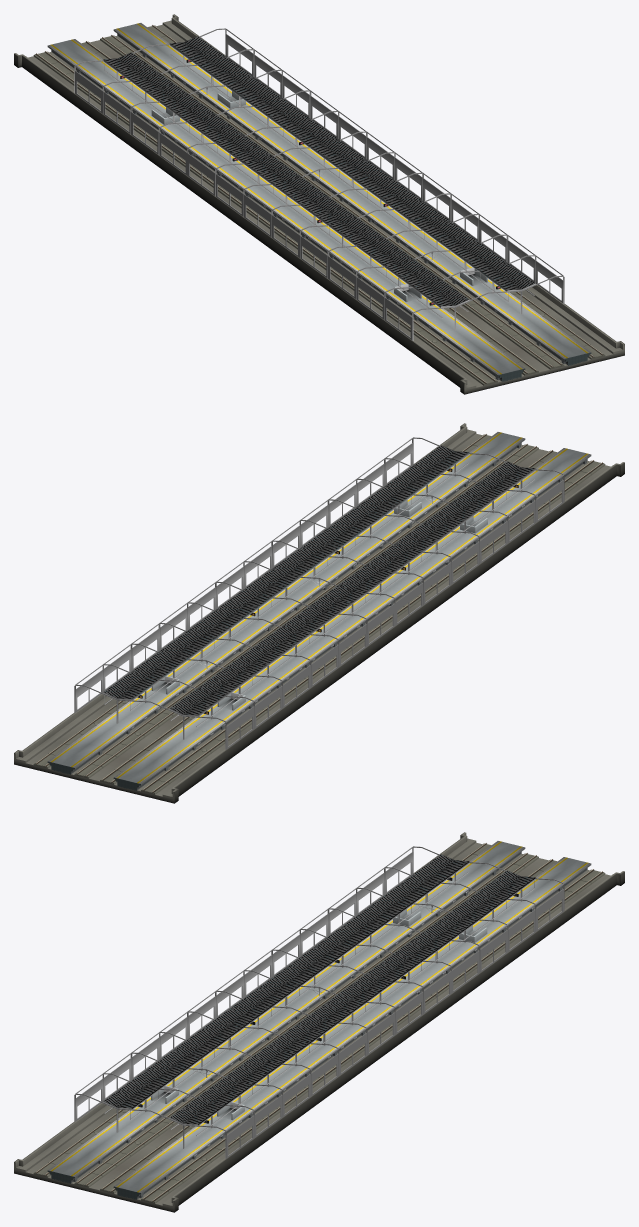
File: HANKYU_4RAIL_ST01.glb
3 views of the same model, one above another, from view 1: azimuth 30°, elevation 25°; view 2: azimuth 150°, elevation 25°; view 3: azimuth 330°, elevation 25° (orthographic).
Parts seen in each view (by area): view 1: home, bone_02-14, bone_12, bone_035; view 2: home, bone_02-14, bone_035, bone_12; view 3: home, bone_02-14, bone_12, bone_035.
Boxes of the visible parts, box(x1,y1,x2,y2) form: home: box(14, 14, 624, 394); bone_02-14: box(74, 28, 564, 340); bone_12: box(385, 252, 487, 305); bone_035: box(146, 77, 245, 124); home: box(14, 423, 624, 803); bone_02-14: box(74, 437, 564, 749); bone_035: box(151, 676, 245, 712); bone_12: box(394, 496, 493, 544); home: box(14, 832, 624, 1212); bone_02-14: box(74, 846, 564, 1158); bone_12: box(151, 1070, 253, 1123); bone_035: box(393, 895, 492, 942).
Bounding box in the file's own units: 82.36 × 20.28 × 400.
Materials: 88 (87 with a texture image).
